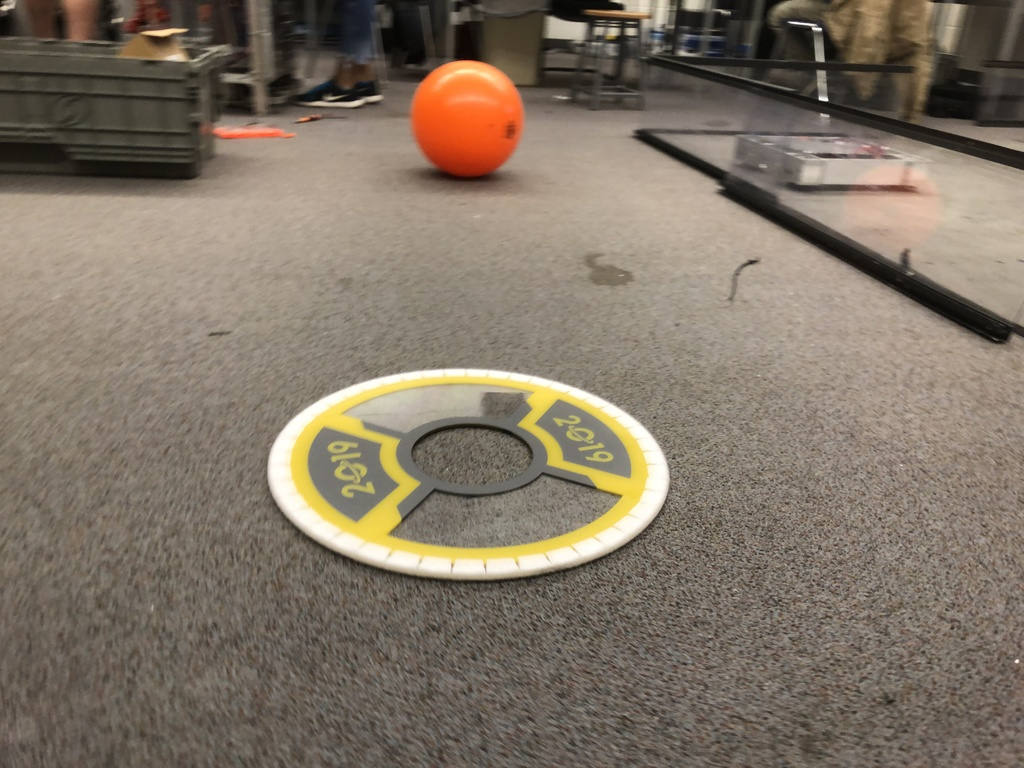hatch_panel: (246, 348, 705, 591)
